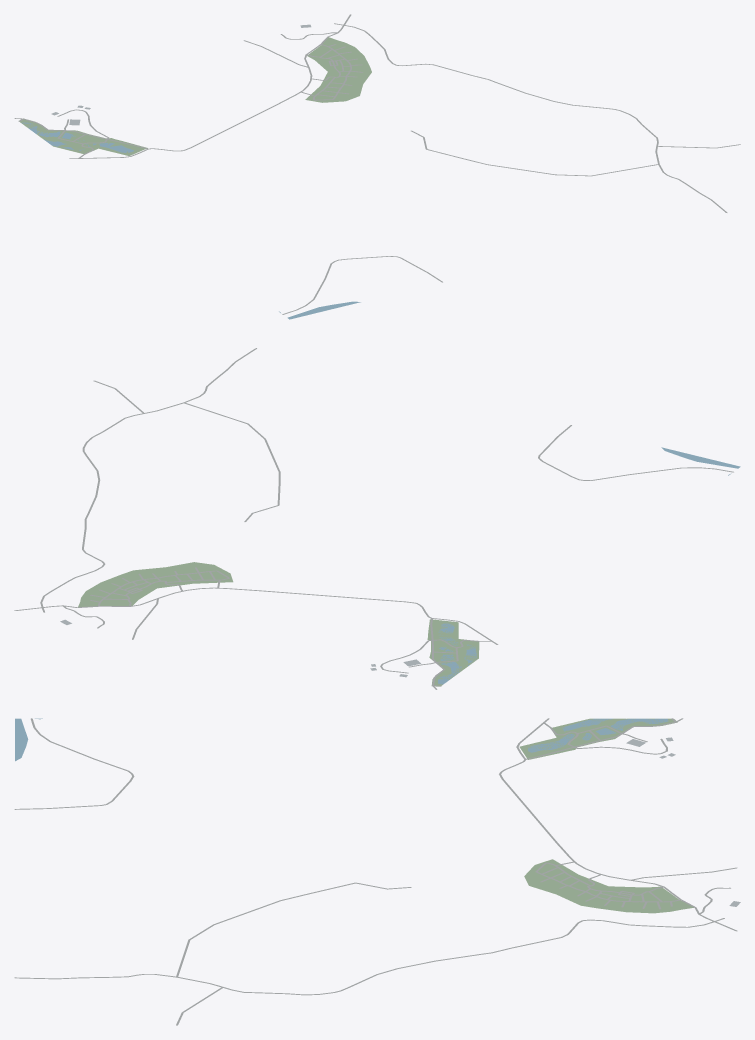
File: -8_9-known-coarse.glb
3 renders of one model, top to bottom at view 1: azimuth 30°, elevation 25°; view 2: azimuth 150°, elevation 25°; view 3: azimuth 270°, elevation 25°, orthographic. The views are drawn at different scales.
Size of the model in its own units: 1003 by 0.15 by 1002.
